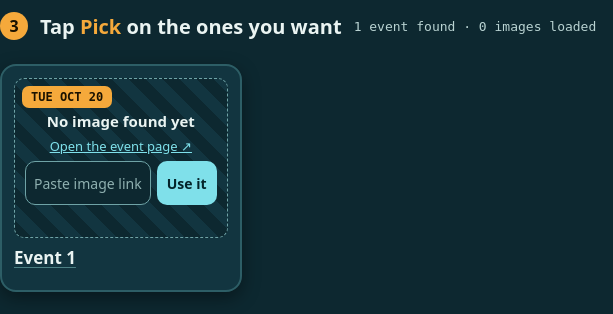
Test: paste box on a card with no image › shows the reason when the link is refused, and keeps what was typed
The image size is (613, 314).
Step 1. Type "https://example.com/page" into the field named "Paste an image link for Event 1" → (88, 183), box [25, 161, 151, 205]
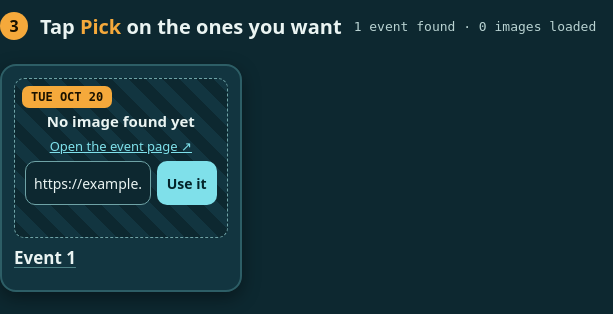
Step 2. Click the button with aria-label "Use this image for Event 1" → (187, 183), box [157, 161, 217, 205]
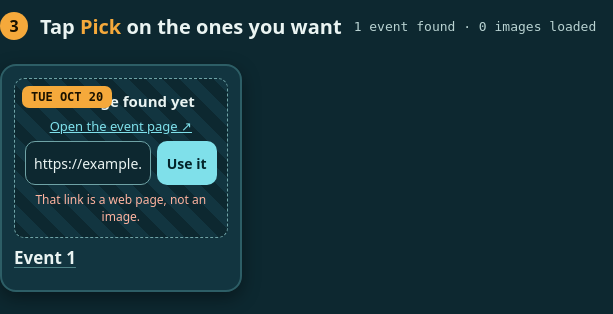
Expected: the link "Open the event page ↗" is shown, [50, 117, 192, 135]
Now the message reads "That link is a web page, not an image.", box [35, 191, 206, 225]
